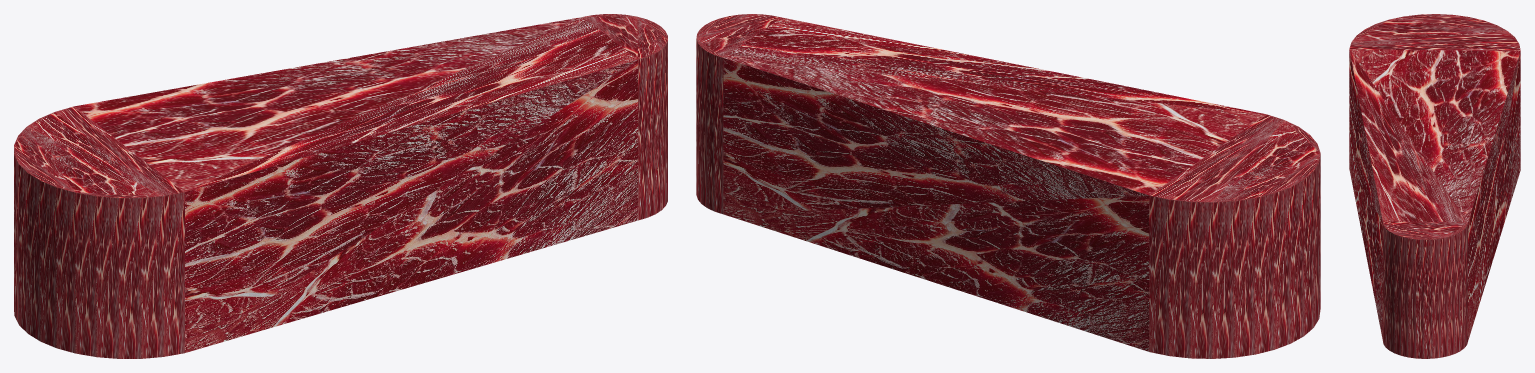
File: paddle.obj
3 views of the same model, side by side, from view 1: azimuth 30°, elevation 25°; view 2: azimuth 150°, elevation 25°; view 3: azimuth 270°, elevation 25° (orthographic). The views are drawn at different scales.
Parts seen in each view (by area): view 1: Circle_Circle.001; view 2: Circle_Circle.001; view 3: Circle_Circle.001.
Part boxes in pixels (x1,y1,x2,y2): Circle_Circle.001: [14, 14, 667, 358]; Circle_Circle.001: [696, 14, 1320, 358]; Circle_Circle.001: [1349, 14, 1520, 358].
Size of the model in its own units: 1.39 by 0.3431 by 0.4474.
